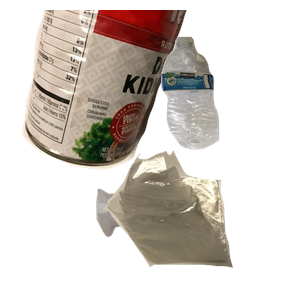glass: (94, 184, 253, 300)
metal: (20, 10, 199, 172)
plastic: (159, 34, 300, 176)
trash: (101, 148, 300, 300)
